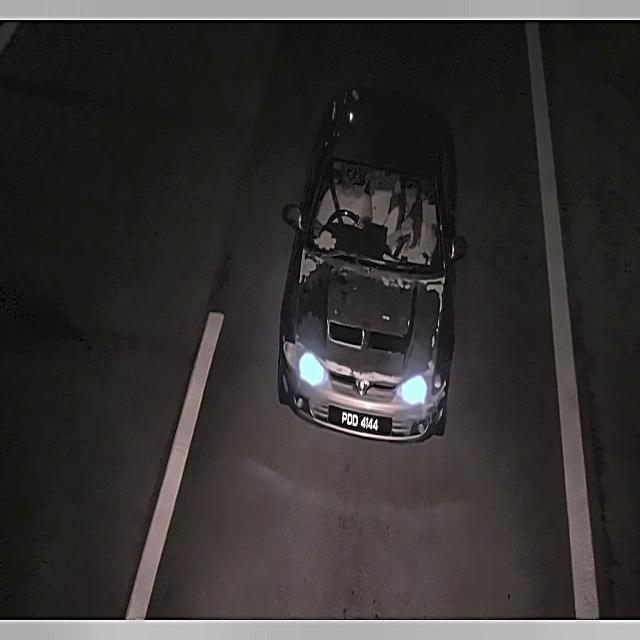car: (331, 400, 388, 444)
